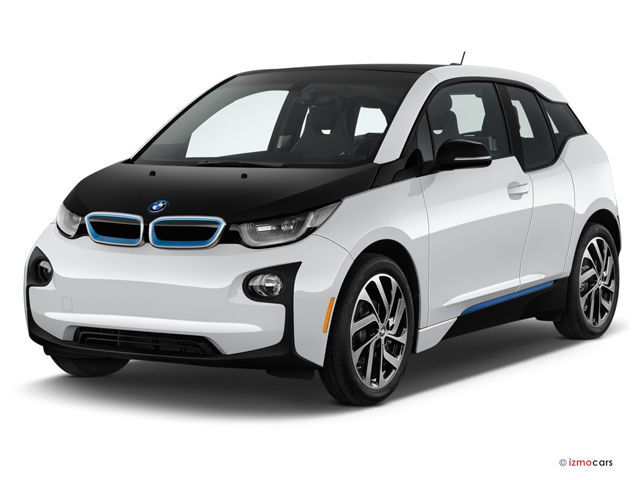bmw: (14, 49, 628, 413)
